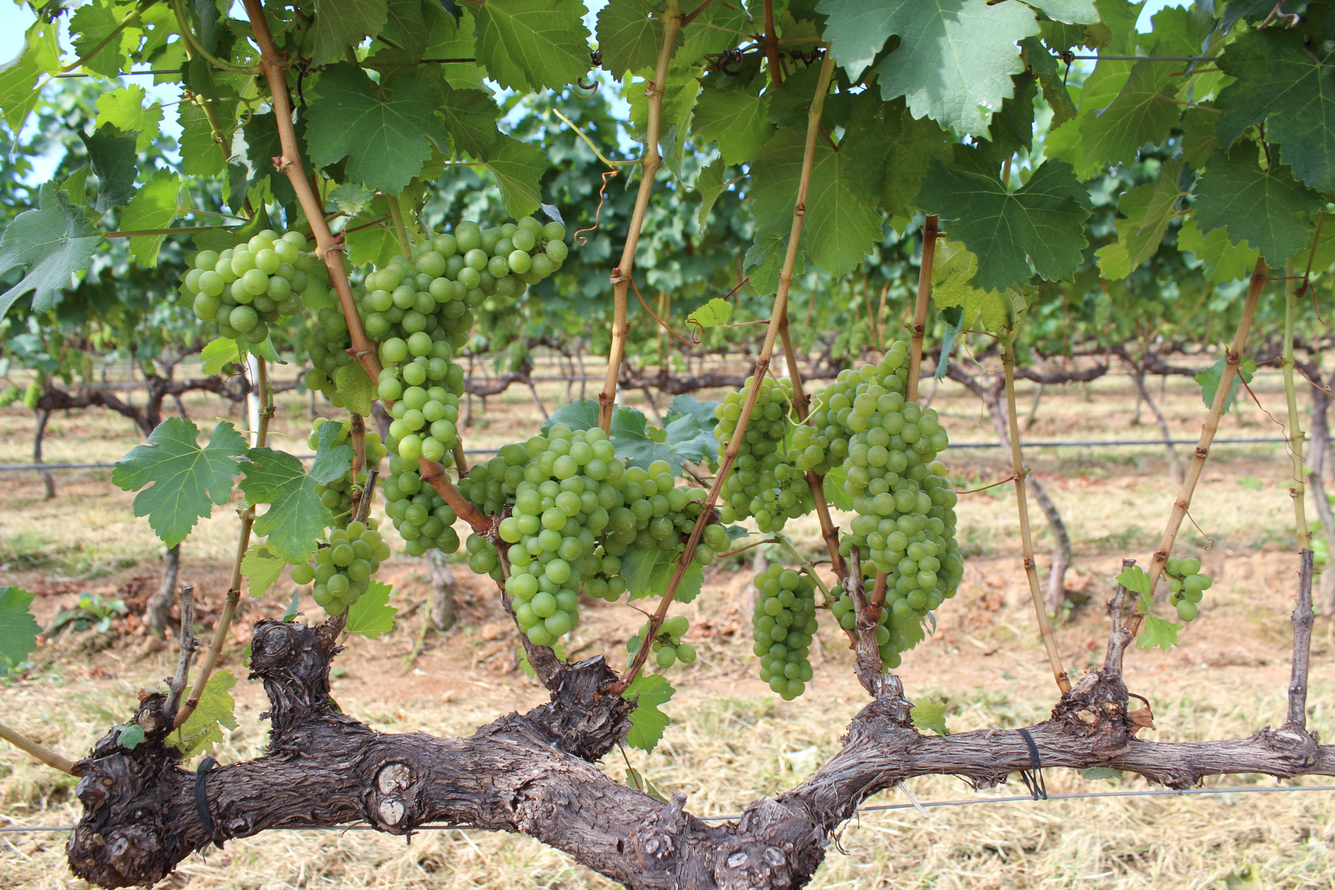leaf: (818, 0, 1038, 135), (919, 160, 1091, 291), (1216, 27, 1335, 192), (305, 62, 448, 194), (112, 418, 246, 546), (1194, 143, 1324, 267), (239, 423, 354, 563), (0, 183, 100, 318), (1078, 61, 1182, 165), (474, 0, 590, 92), (1097, 160, 1182, 279), (932, 241, 1010, 332), (0, 15, 60, 133), (611, 409, 707, 475), (168, 669, 237, 759), (692, 88, 773, 164), (1177, 217, 1260, 281), (596, 0, 663, 79), (485, 134, 547, 218), (78, 125, 136, 212), (312, 0, 387, 65), (69, 0, 128, 78), (96, 84, 162, 150), (119, 170, 190, 231), (623, 673, 675, 752), (0, 585, 41, 676), (177, 101, 226, 176), (344, 579, 398, 638), (241, 543, 287, 597), (334, 362, 375, 416), (696, 158, 726, 229), (541, 399, 599, 434), (1222, 356, 1257, 413), (200, 337, 248, 374), (1026, 0, 1099, 24), (1137, 614, 1183, 650), (1195, 356, 1227, 407), (910, 699, 949, 737), (687, 297, 733, 327), (130, 234, 166, 268), (675, 30, 682, 46), (754, 82, 759, 87), (1326, 11, 1331, 16), (1266, 253, 1270, 259), (1151, 50, 1157, 54), (1082, 99, 1084, 105), (293, 458, 295, 460), (942, 733, 944, 734), (1263, 250, 1264, 252), (1156, 45, 1157, 47), (660, 14, 661, 15)
